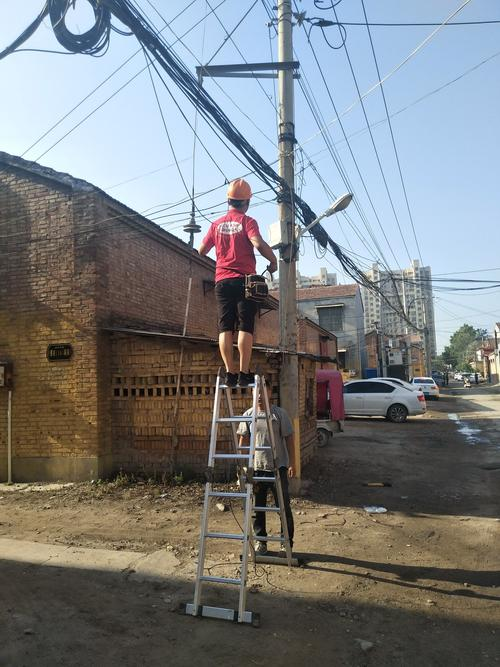安全帽、工作服均未穿戴的工作人员: (233, 378, 296, 558)
未穿工作服的工作人员: (195, 176, 279, 388)
